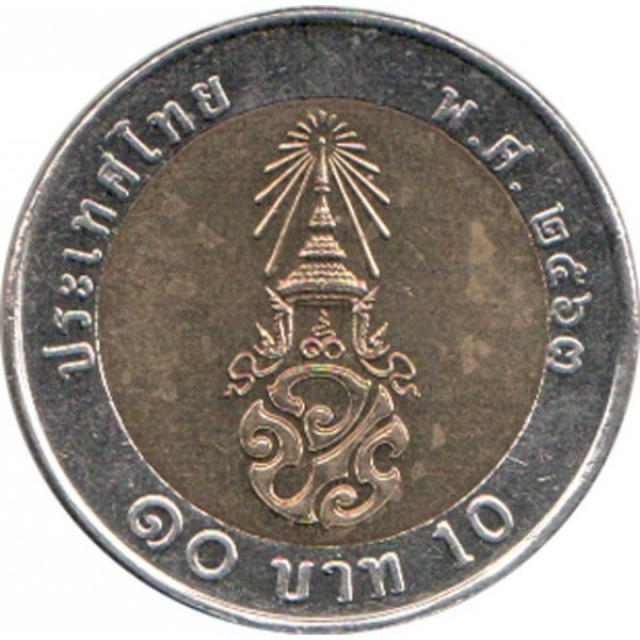10 Bath: (6, 1, 640, 640)
